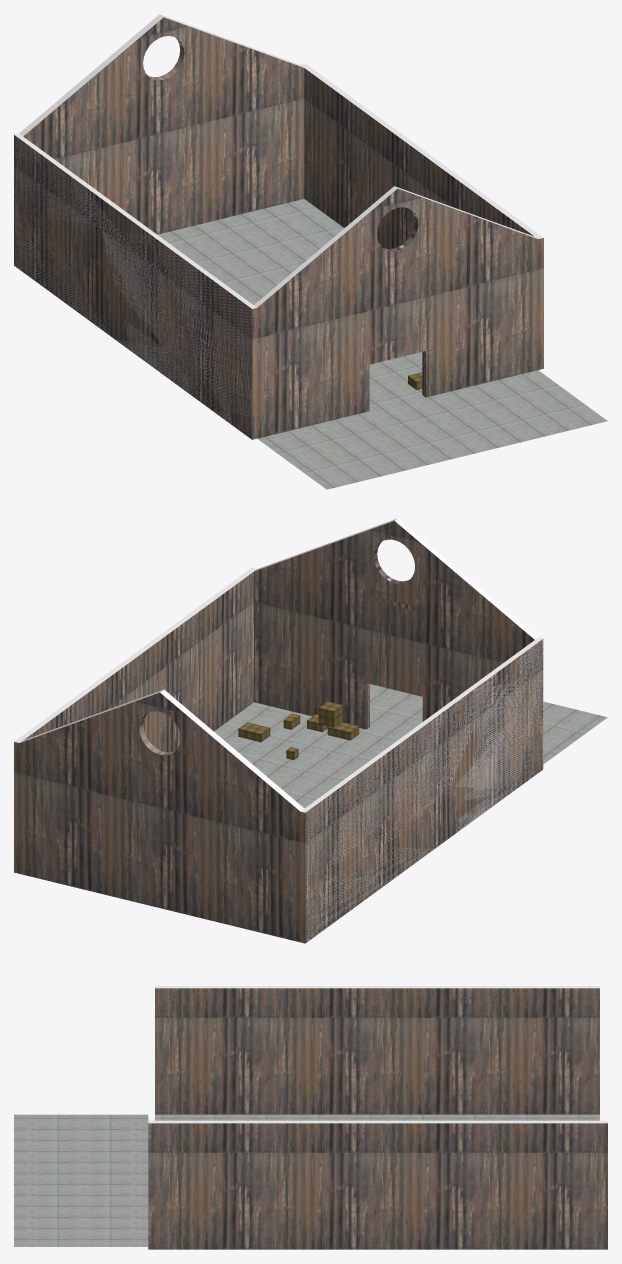
The picture shows the model from 3 angles, top to bottom: view 1: azimuth 30°, elevation 25°; view 2: azimuth 150°, elevation 25°; view 3: azimuth 270°, elevation 25°; orthographic projection. The views are drawn at different scales.
Visible parts, largest first — view 1: SketchUp.011, SketchUp, SketchUp.006, SketchUp.007, SketchUp.009, SketchUp.003; view 2: SketchUp.009, SketchUp.002, SketchUp.007, SketchUp.006, SketchUp.003; view 3: SketchUp.008, SketchUp.009, SketchUp.006, SketchUp.003.
Part boxes in pixels (bbox=[...]): SketchUp.011: bbox=[252, 188, 543, 439]; SketchUp: bbox=[23, 17, 304, 234]; SketchUp.006: bbox=[157, 199, 607, 489]; SketchUp.007: bbox=[14, 135, 252, 439]; SketchUp.009: bbox=[304, 68, 533, 397]; SketchUp.003: bbox=[14, 14, 543, 308]; SketchUp.009: bbox=[24, 521, 534, 752]; SketchUp.002: bbox=[14, 692, 305, 943]; SketchUp.007: bbox=[305, 639, 543, 943]; SketchUp.006: bbox=[214, 684, 607, 808]; SketchUp.003: bbox=[14, 518, 542, 812]; SketchUp.008: bbox=[148, 1123, 607, 1249]; SketchUp.009: bbox=[155, 988, 599, 1114]; SketchUp.006: bbox=[14, 1114, 599, 1246]; SketchUp.003: bbox=[148, 972, 607, 1123].
Size of the model in its own units: 599 by 1096 by 424.
Materials: 4 (3 with a texture image).
